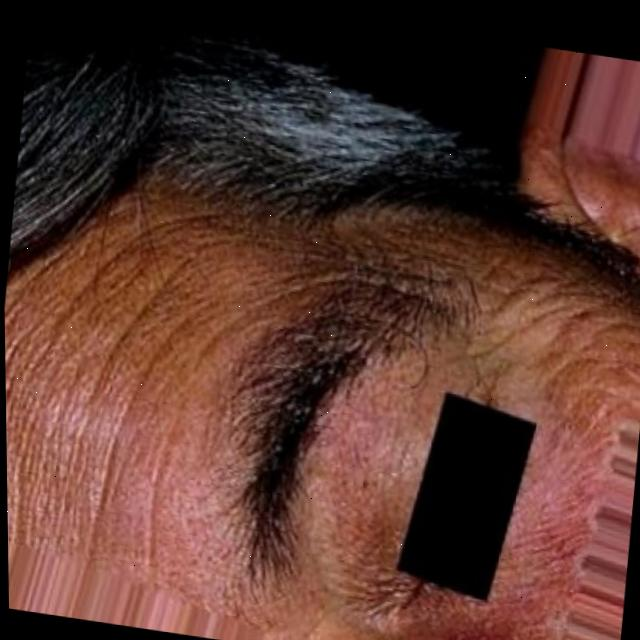Rosacea: (426, 623, 540, 640)
